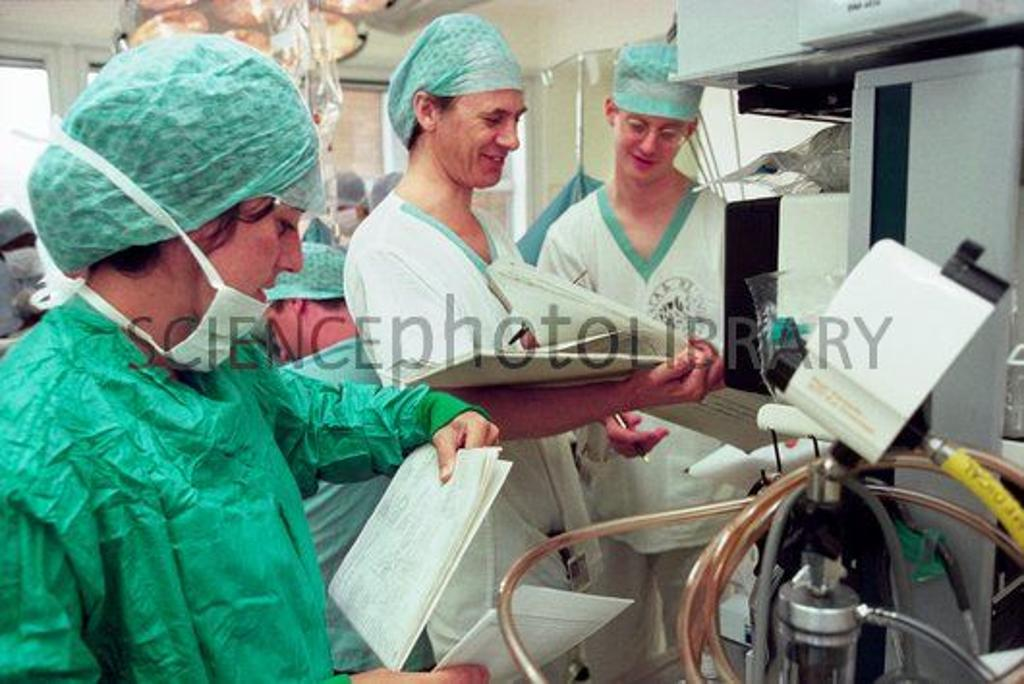face: (218, 156, 310, 338), (438, 80, 522, 186), (620, 98, 678, 178)
